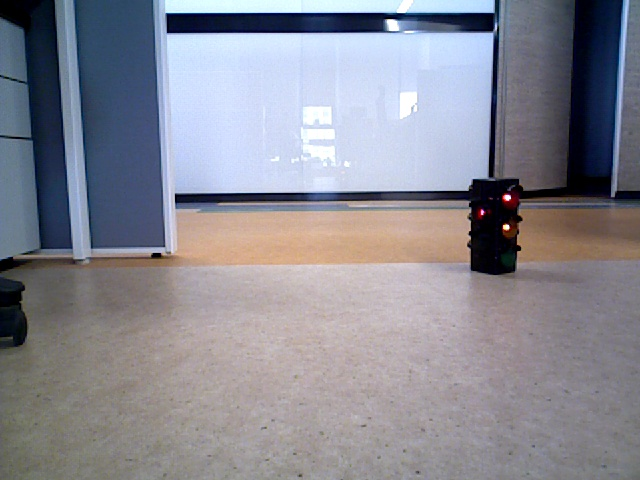red: (473, 178, 513, 269)
